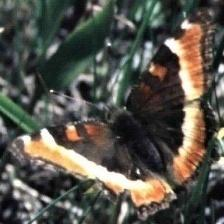butterfly: (9, 9, 215, 216)
